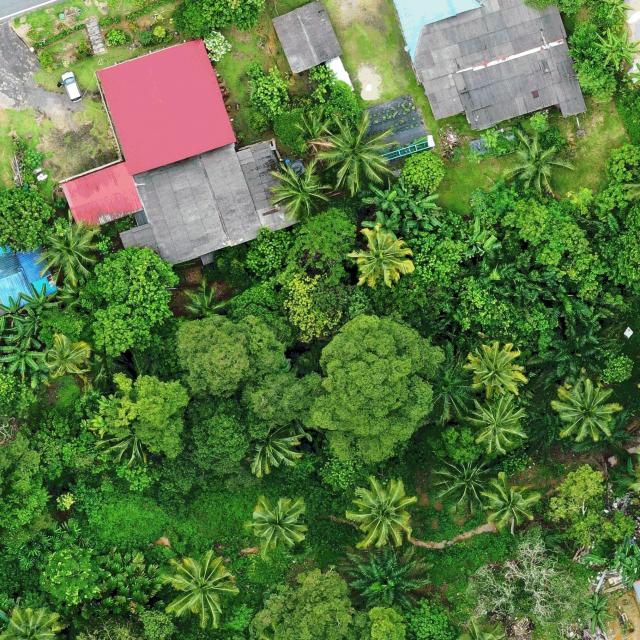Tree: (300, 310, 440, 470), (84, 244, 178, 358), (468, 532, 574, 624), (178, 316, 292, 400), (99, 370, 192, 459), (548, 463, 638, 549), (253, 565, 354, 640), (318, 111, 400, 200), (158, 550, 240, 630), (192, 396, 270, 475), (529, 318, 624, 381), (237, 369, 325, 435), (34, 210, 110, 286), (345, 476, 419, 550), (353, 545, 433, 612), (0, 432, 54, 528), (550, 377, 623, 444), (501, 128, 571, 195), (431, 449, 502, 514), (36, 548, 112, 608), (427, 337, 478, 426), (461, 389, 530, 454), (344, 228, 416, 290), (267, 156, 335, 220), (293, 207, 358, 268), (0, 183, 55, 254), (462, 340, 528, 399), (244, 493, 310, 551), (173, 0, 270, 38), (480, 476, 543, 532), (245, 419, 305, 475), (180, 277, 237, 324), (246, 60, 291, 117), (0, 603, 69, 640), (403, 596, 458, 640), (42, 334, 91, 379), (0, 360, 35, 418), (400, 148, 446, 192), (393, 178, 439, 220), (591, 30, 638, 71), (353, 605, 408, 640), (363, 174, 403, 221), (1, 310, 42, 349), (0, 338, 43, 374), (364, 212, 418, 238), (613, 537, 640, 588), (582, 594, 615, 634), (20, 283, 62, 314), (418, 195, 447, 230), (203, 28, 233, 61), (29, 355, 52, 389), (0, 295, 26, 325), (598, 0, 635, 19)
